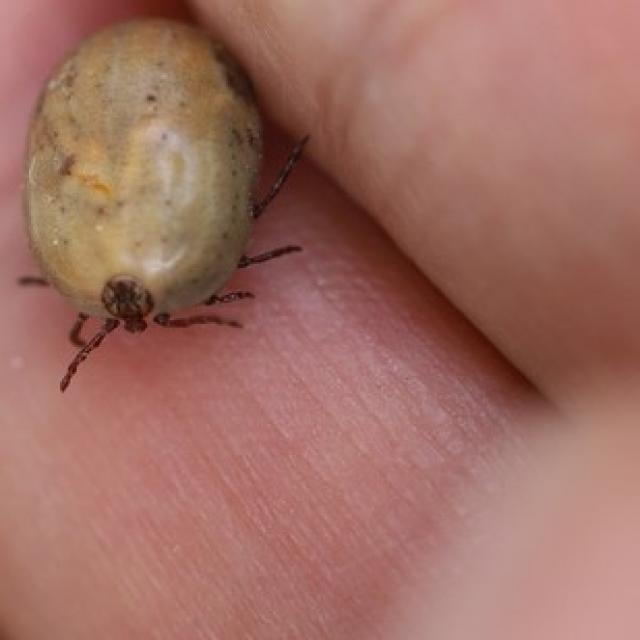Dermacentor Reticulatus-F-Fed: (17, 17, 311, 391)
